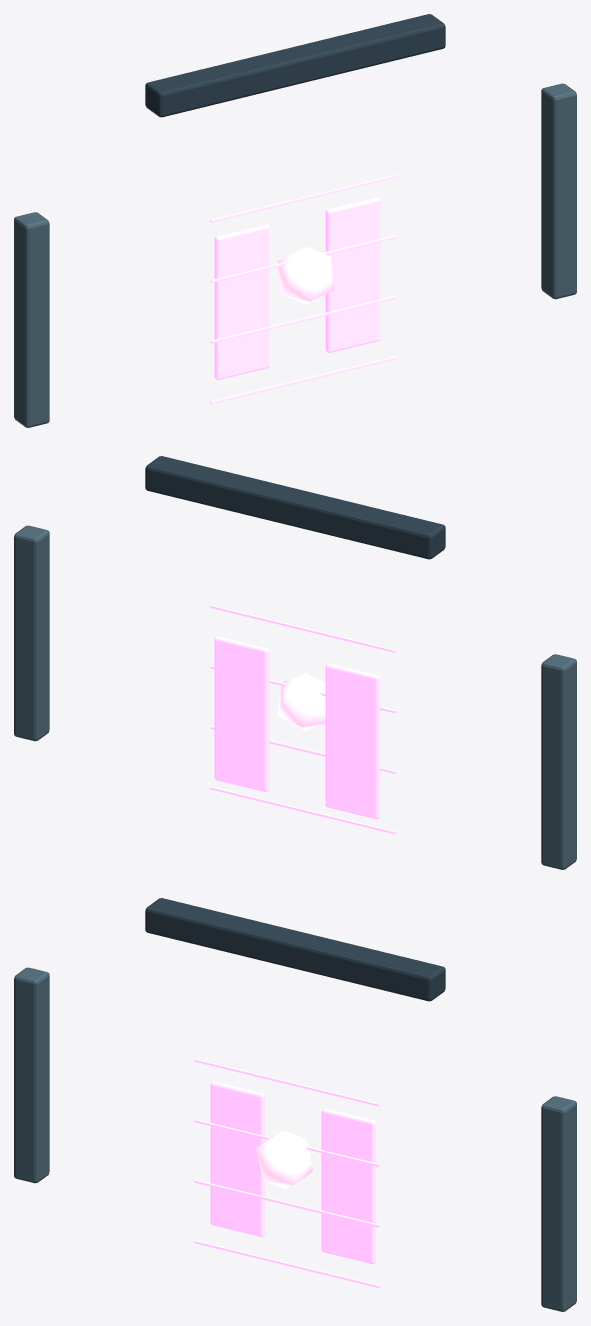
The model's file is nexus_gate.glb.
3 views of the same model, one above another, from view 1: azimuth 30°, elevation 25°; view 2: azimuth 150°, elevation 25°; view 3: azimuth 330°, elevation 25° (orthographic).
Parts seen in each view (by area): view 1: Gate_Top, Gate_LeftDoor, Gate_RightPylon, Gate_LeftPylon, Gate_RightDoor, Gate_Lock, Gate_ScanLine_1, Gate_ScanLine_3, Gate_ScanLine_0, Gate_ScanLine_2; view 2: Gate_Top, Gate_LeftDoor, Gate_RightDoor, Gate_RightPylon, Gate_LeftPylon, Gate_Lock, Gate_ScanLine_0, Gate_ScanLine_3; view 3: Gate_Top, Gate_RightDoor, Gate_LeftDoor, Gate_LeftPylon, Gate_RightPylon, Gate_Lock, Gate_ScanLine_1, Gate_ScanLine_3, Gate_ScanLine_0, Gate_ScanLine_2.
Boxes of the visible parts, left/top/right/bottom form: Gate_Top: left=145, top=14, right=445, bottom=117; Gate_LeftDoor: left=214, top=224, right=269, bottom=379; Gate_RightPylon: left=541, top=83, right=576, bottom=299; Gate_LeftPylon: left=14, top=212, right=49, bottom=427; Gate_RightDoor: left=325, top=197, right=380, bottom=352; Gate_Lock: left=277, top=246, right=334, bottom=304; Gate_ScanLine_1: left=210, top=295, right=396, bottom=343; Gate_ScanLine_3: left=210, top=174, right=396, bottom=222; Gate_ScanLine_0: left=210, top=356, right=396, bottom=403; Gate_ScanLine_2: left=210, top=235, right=396, bottom=282; Gate_Top: left=145, top=456, right=445, bottom=559; Gate_LeftDoor: left=325, top=663, right=380, bottom=818; Gate_RightDoor: left=214, top=636, right=269, bottom=791; Gate_RightPylon: left=14, top=525, right=49, bottom=741; Gate_LeftPylon: left=541, top=654, right=576, bottom=869; Gate_Lock: left=277, top=673, right=325, bottom=730; Gate_ScanLine_0: left=210, top=786, right=396, bottom=834; Gate_ScanLine_3: left=210, top=605, right=396, bottom=652; Gate_Top: left=145, top=898, right=445, bottom=1001; Gate_RightDoor: left=321, top=1108, right=376, bottom=1263; Gate_LeftDoor: left=210, top=1081, right=265, bottom=1236; Gate_LeftPylon: left=14, top=967, right=49, bottom=1183; Gate_RightPylon: left=541, top=1096, right=576, bottom=1311; Gate_Lock: left=256, top=1130, right=313, bottom=1188; Gate_ScanLine_1: left=194, top=1179, right=380, bottom=1227; Gate_ScanLine_3: left=194, top=1058, right=380, bottom=1106; Gate_ScanLine_0: left=194, top=1240, right=380, bottom=1287; Gate_ScanLine_2: left=194, top=1119, right=380, bottom=1166.
Size of the model in its own units: 4.77 by 2.66 by 0.4842.
